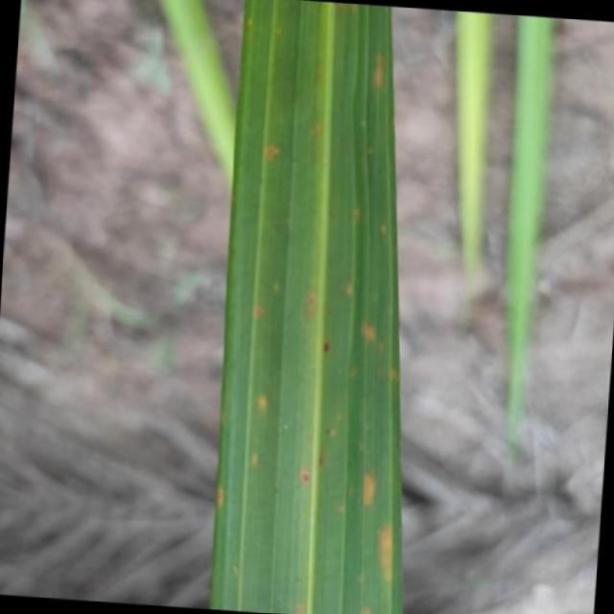Kalium: (214, 0, 402, 614)
